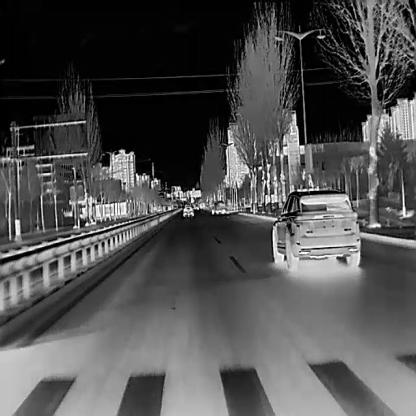car: (271, 186, 361, 270), (182, 203, 192, 216)
truck: (211, 200, 225, 214)
